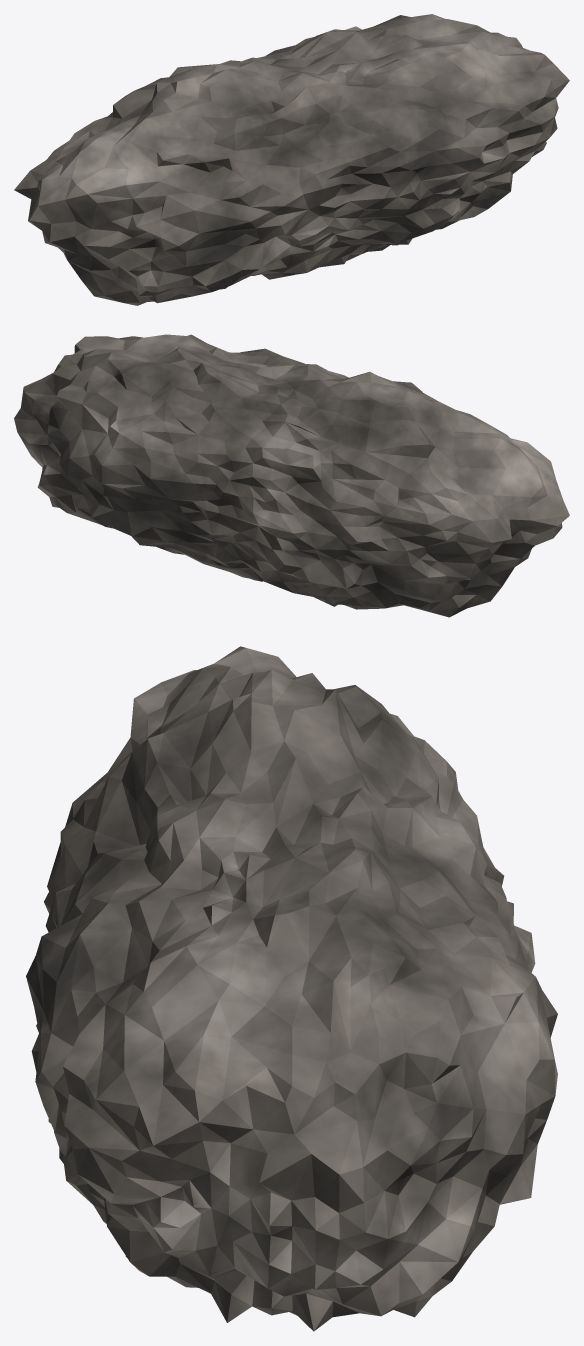
File: Asteroide4.fbx
The picture shows the model from 3 angles, top to bottom: view 1: azimuth 30°, elevation 25°; view 2: azimuth 150°, elevation 25°; view 3: azimuth 270°, elevation 25°; orthographic projection. The views are drawn at different scales.
Visible parts, largest first — view 1: Asteroide4; view 2: Asteroide4; view 3: Asteroide4.
Boxes of the visible parts, left/top/right/bottom form: Asteroide4: left=14, top=14, right=569, bottom=305; Asteroide4: left=14, top=334, right=569, bottom=617; Asteroide4: left=26, top=646, right=557, bottom=1331.
Bounding box in the file's own units: 199 × 79.9 × 87.3.
